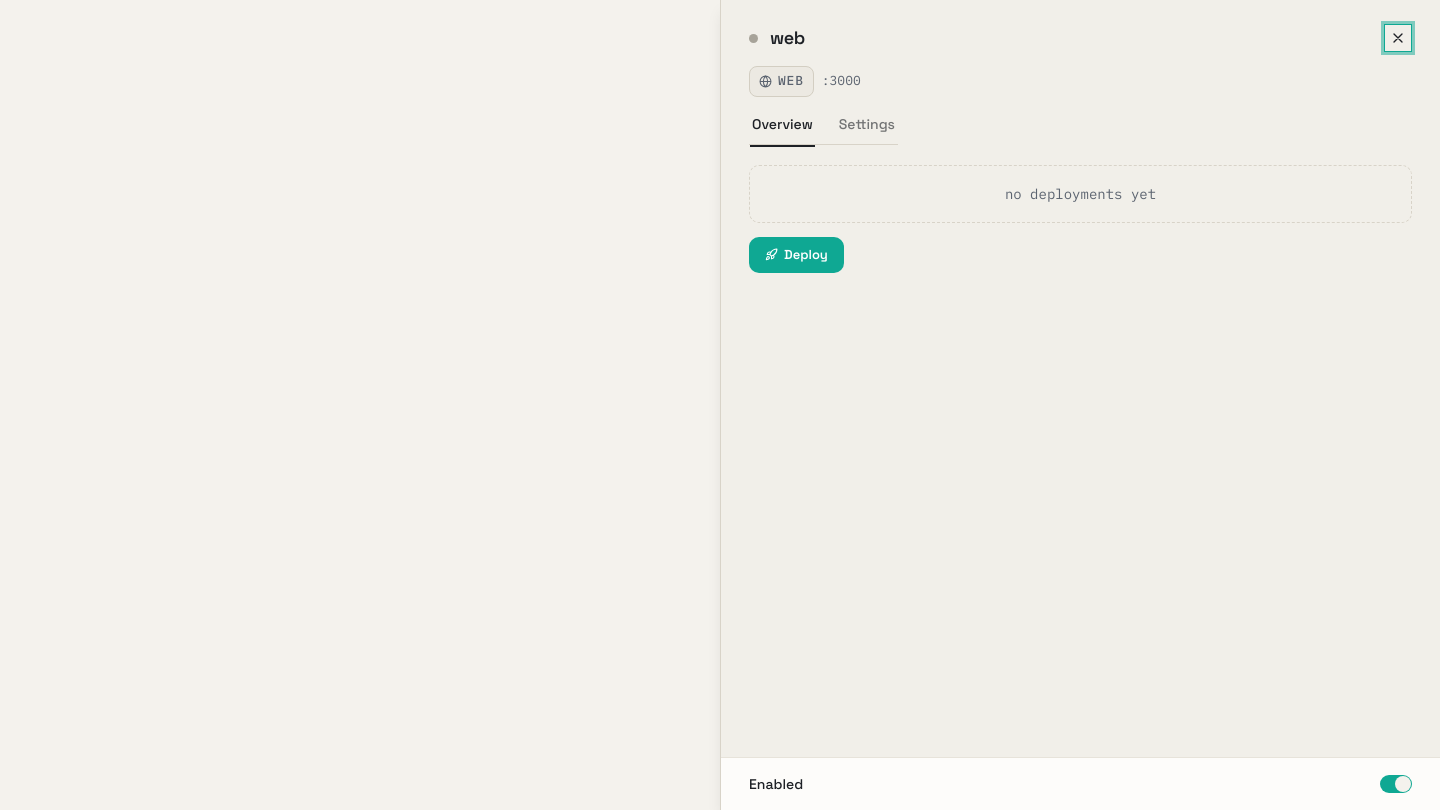
Test: ServiceDetailPanel › disables the service and reports the update once the modal is confirmed
The width and height of the screenshot is (1440, 810).
Expected: the text "no deployments yet" is shown, [1005,185,1156,203]
Step 1. Click the switch named "Disable service" → (1396, 784), box [1380,775,1412,793]
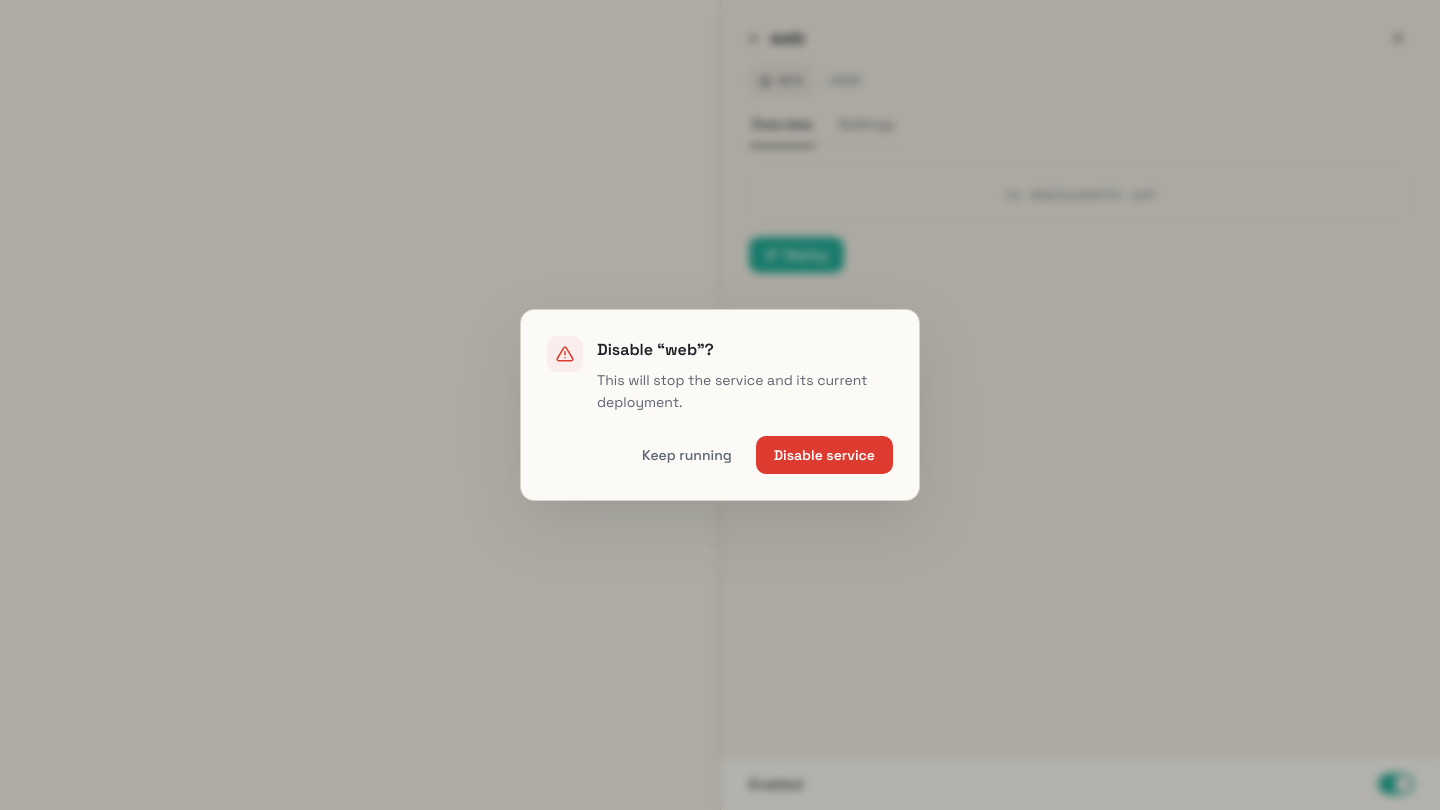
Step 2. Click the button "Disable service" → (824, 455), box [756,436,893,474]
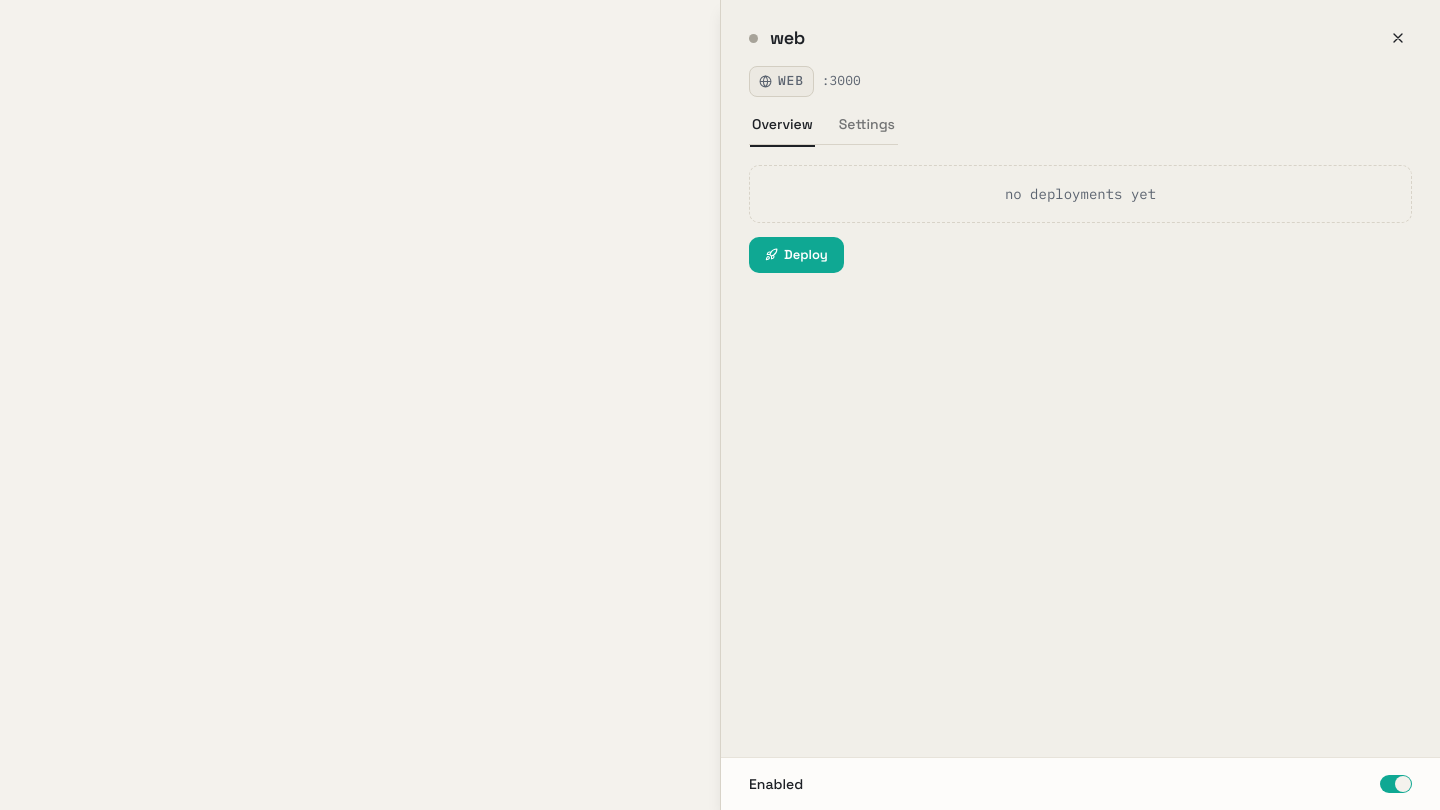
Expected: the text "This will stop the service" is gone
